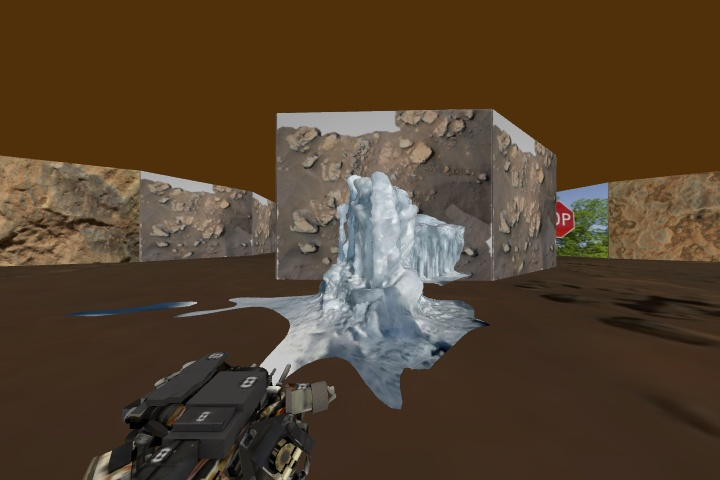glacier: (270, 167, 482, 369)
